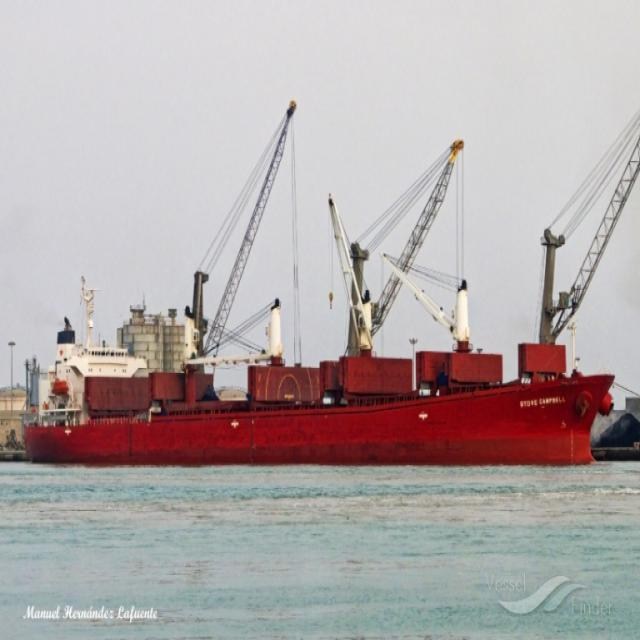OCR: (514, 384, 566, 414)
